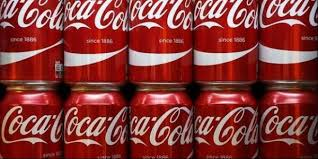coke-can: (63, 1, 130, 87), (193, 1, 258, 88), (259, 1, 317, 92), (130, 1, 192, 86), (1, 2, 62, 85), (130, 91, 196, 159), (63, 92, 130, 157), (194, 91, 257, 159), (258, 91, 317, 159), (5, 87, 59, 159)
